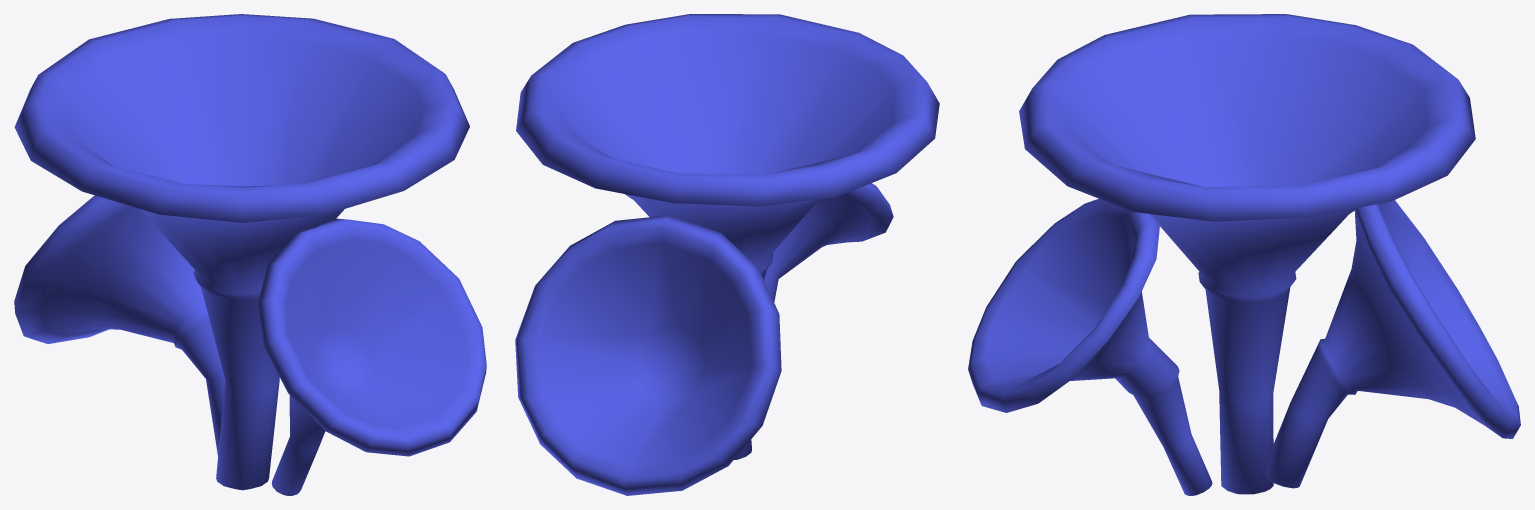
Rendered from mantar3.fbx.
3 views of the same model, side by side, from view 1: azimuth 30°, elevation 25°; view 2: azimuth 150°, elevation 25°; view 3: azimuth 270°, elevation 25° (orthographic). The views are drawn at different scales.
Parts seen in each view (by area): view 1: mantar_3.001; view 2: mantar_3.001; view 3: mantar_3.001.
Boxes of the visible parts, bbox=[...] form: mantar_3.001: bbox=[14, 14, 486, 495]; mantar_3.001: bbox=[515, 14, 939, 495]; mantar_3.001: bbox=[968, 14, 1520, 495].
Size of the model in its own units: 31.98 by 29.71 by 38.71.
